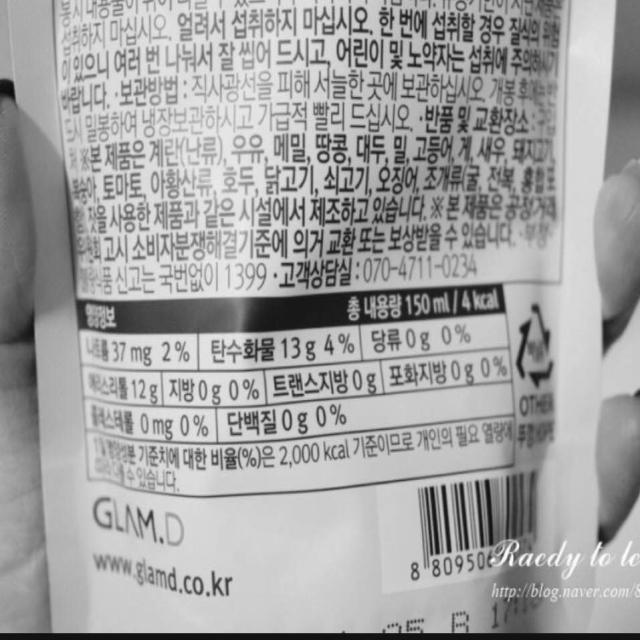Nutrition Label: (69, 291, 519, 491)
